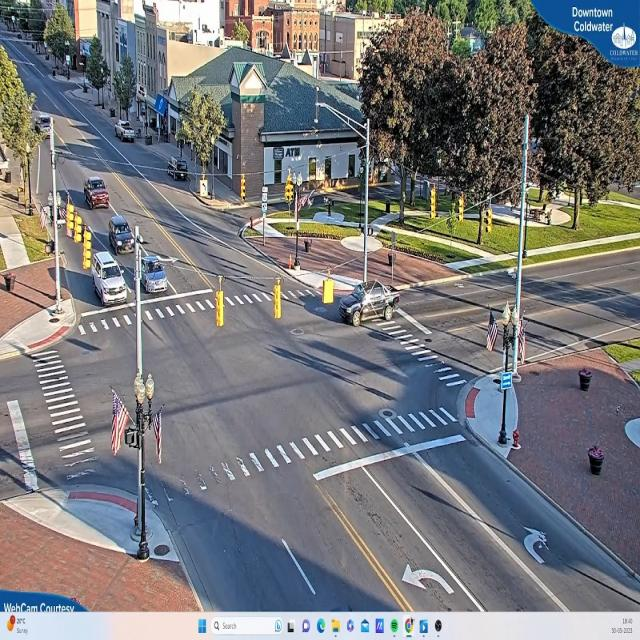car: (340, 275, 402, 328), (91, 252, 129, 308), (141, 254, 168, 292), (110, 218, 135, 254), (83, 178, 109, 211), (164, 158, 190, 180), (116, 123, 135, 143)
